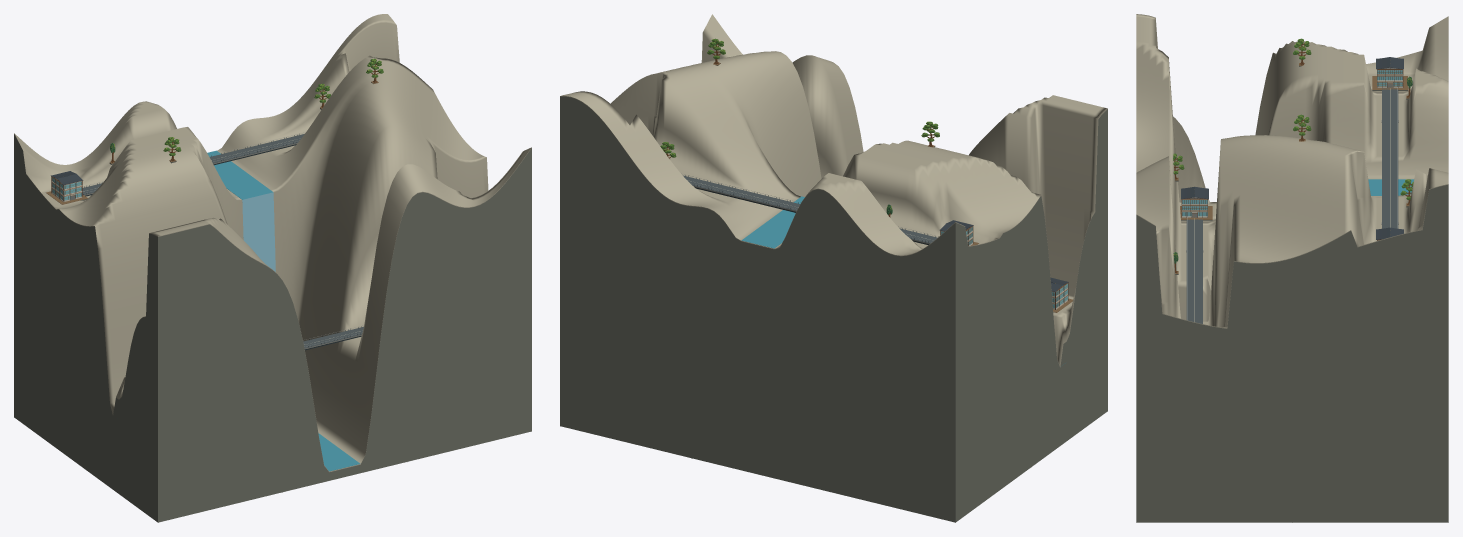
Rendered from visual-far.glb.
The picture shows the model from 3 angles, left to right: view 1: azimuth 30°, elevation 25°; view 2: azimuth 150°, elevation 25°; view 3: azimuth 270°, elevation 25°; orthographic projection. The views are drawn at different scales.
Parts seen in each view (by area): view 1: 连续岩土实体与最小原生岩块 (×6), 连续水体表面与真实米制流向 (×3), 分层路床、承梁、支座和实墩 (×2); view 2: 连续岩土实体与最小原生岩块 (×6), 分层路床、承梁、支座和实墩, 连续水体表面与真实米制流向; view 3: 连续岩土实体与最小原生岩块 (×6), 分层路床、承梁、支座和实墩 (×2).
Part boxes in pixels (box(x1,y1,x2,y2)): 连续岩土实体与最小原生岩块 (×6): box(14, 14, 531, 522); 连续水体表面与真实米制流向 (×3): box(207, 150, 360, 471); 分层路床、承梁、支座和实墩 (×2): box(82, 132, 363, 350); 连续岩土实体与最小原生岩块 (×6): box(560, 14, 1107, 522); 分层路床、承梁、支座和实墩: box(681, 173, 938, 245); 连续水体表面与真实米制流向: box(741, 196, 804, 248); 连续岩土实体与最小原生岩块 (×6): box(1136, 14, 1448, 522); 分层路床、承梁、支座和实墩 (×2): box(1186, 87, 1398, 323).
Size of the model in its own units: 288 by 247 by 192.
Materials: 26 (24 with a texture image).
